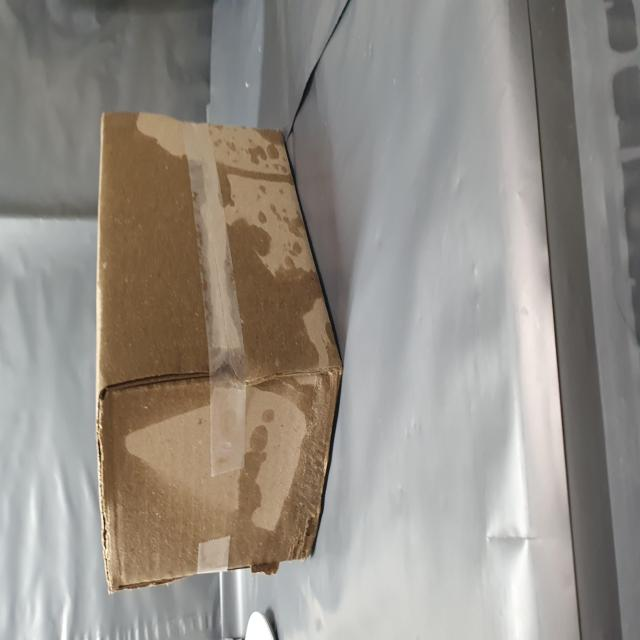wet: (34, 162, 303, 609)
